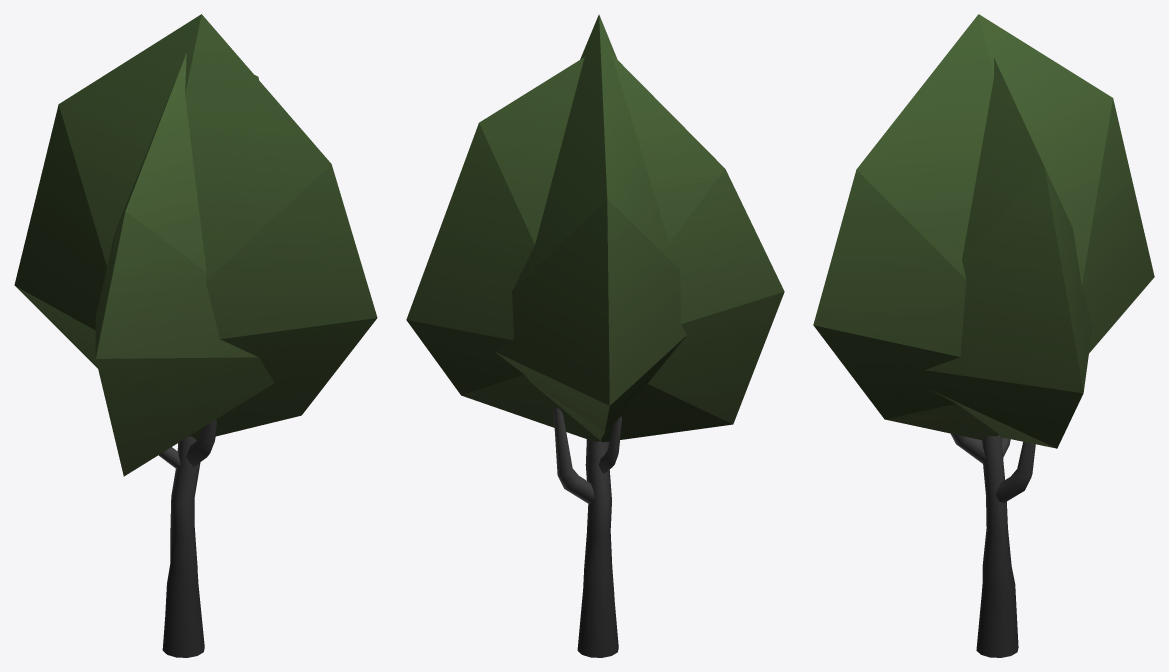
The model's file is tree2.fbx.
3 renders of one model, left to right at view 1: azimuth 30°, elevation 25°; view 2: azimuth 150°, elevation 25°; view 3: azimuth 270°, elevation 25°, orthographic. The views are drawn at different scales.
Parts seen in each view (by area): view 1: tree_2; view 2: tree_2; view 3: tree_2.
Part boxes in pixels (box(x1,y1,x2,y2)): tree_2: box(14, 14, 377, 657); tree_2: box(406, 14, 784, 657); tree_2: box(813, 14, 1154, 657).
Size of the model in its own units: 7.71 by 16.13 by 7.81.
1 material, 1 textured.
